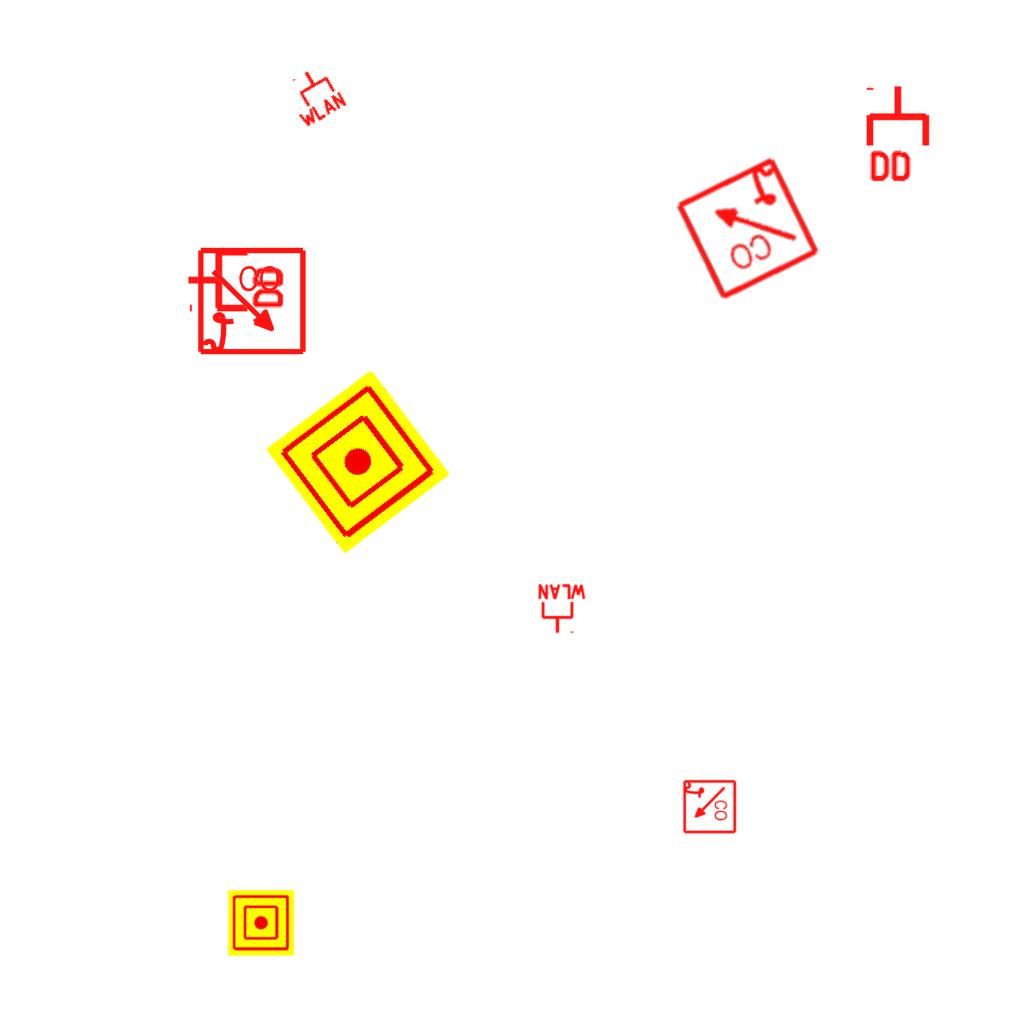Datenanschluss_zweifach: (865, 83, 934, 186), (185, 244, 288, 313)
NAM-Nichtautomatischer_Melder: (265, 369, 451, 555), (228, 890, 294, 956)
ROA_Rauchmelder_optisch_mit_Signalgeber_(Sockelsirene): (670, 151, 823, 304), (196, 246, 309, 359), (681, 779, 737, 835)
WLAN: (278, 59, 350, 131), (536, 583, 588, 635)
